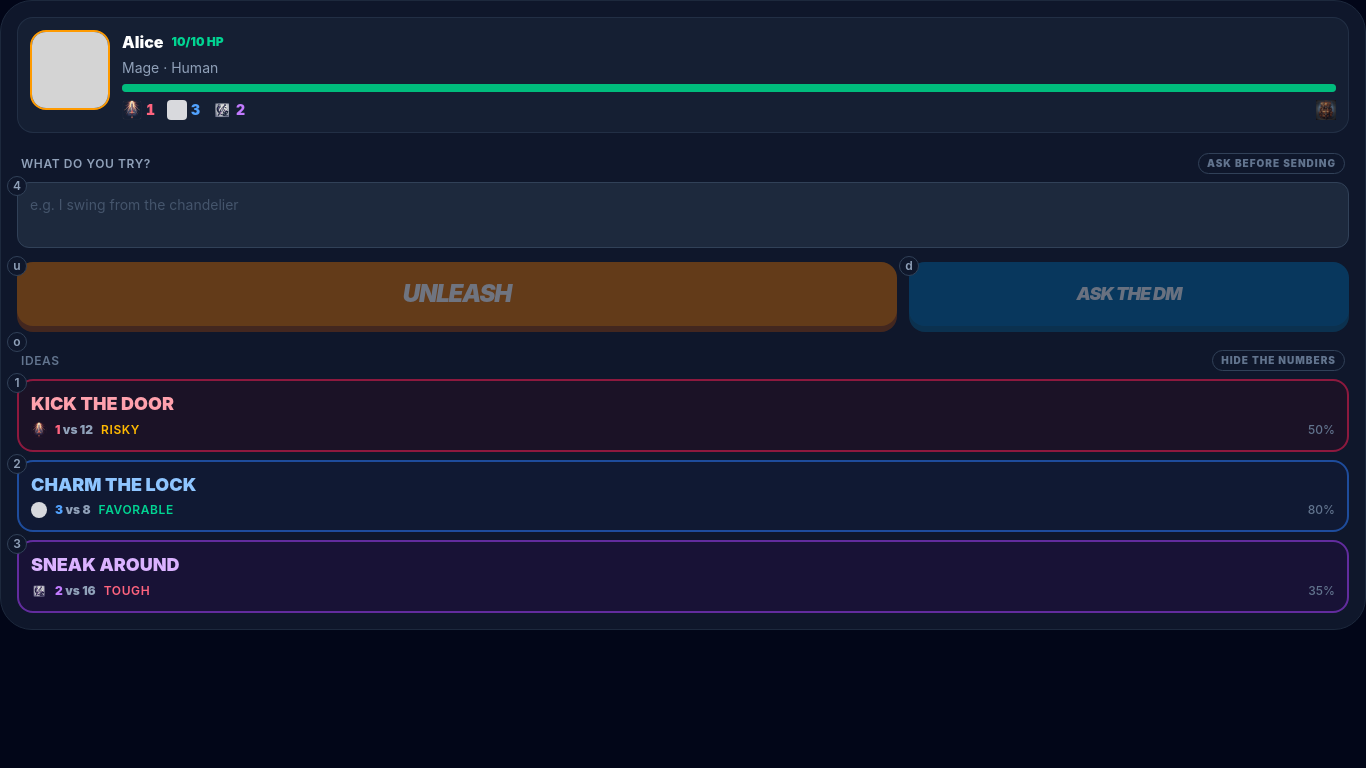
Test case: ActionDock numbers toggle › hides the arithmetic on tap, keeps the risk word, and remembers the choice
Click the button "Hide the numbers" at (1279,360), box x1=1212 y1=350 x2=1345 y2=371
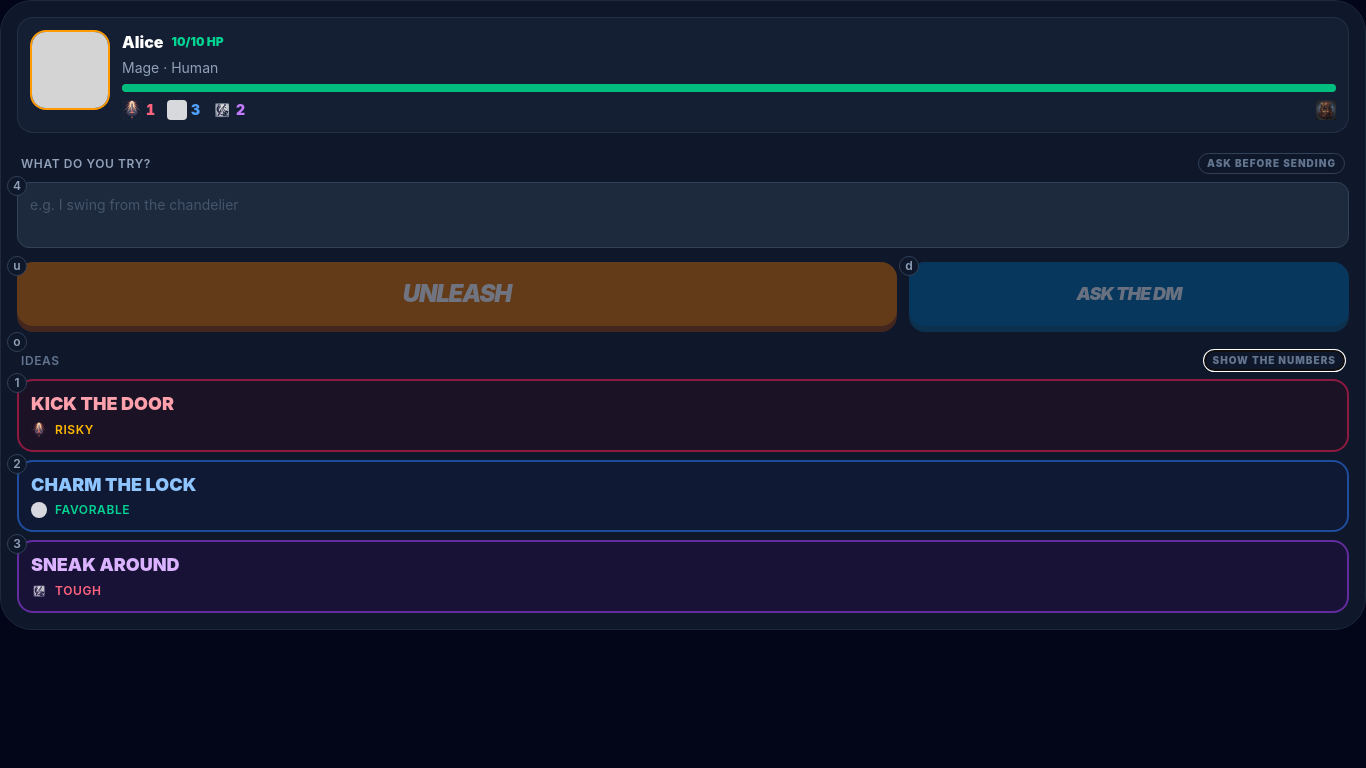
Check: the text "Risky" is shown, box x1=55 y1=422 x2=94 y2=438
Check: the text "vs 12" is gone
Check: the text "50%" is gone
